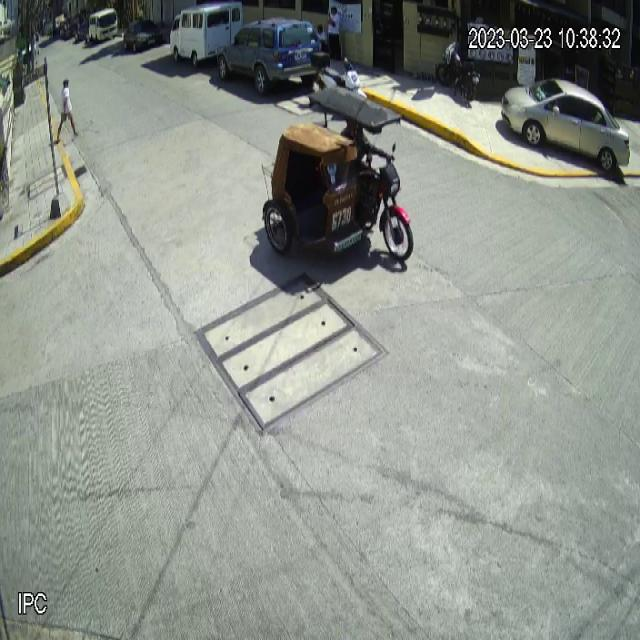Car: (501, 79, 631, 172), (216, 15, 323, 94)
Tricycle: (261, 85, 414, 263)
Van: (169, 0, 243, 67)
